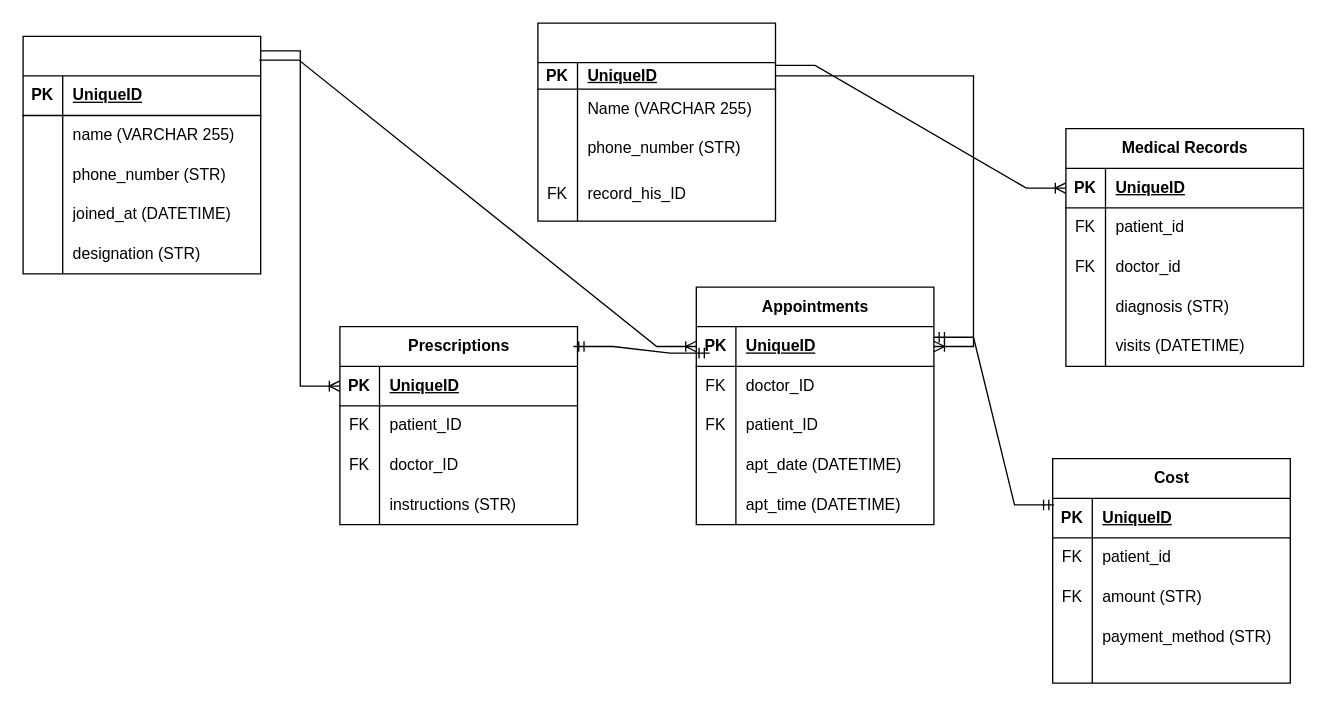
Some shapes in this 1327 by 706 pixel diagram are drawn without their labels. Here are the shapes that lost their labels. From the top down, the box of each, then its label:
(537, 22, 776, 221): Patients
(22, 35, 261, 274): Doctors
